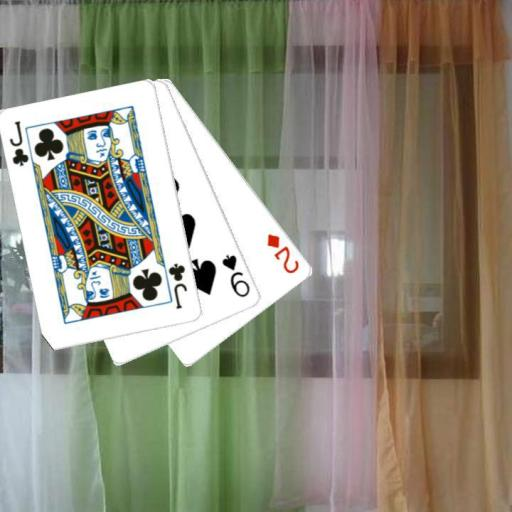2D: (264, 230, 301, 276)
9S: (219, 251, 252, 299)
JC: (7, 118, 31, 168), (166, 260, 189, 311)
